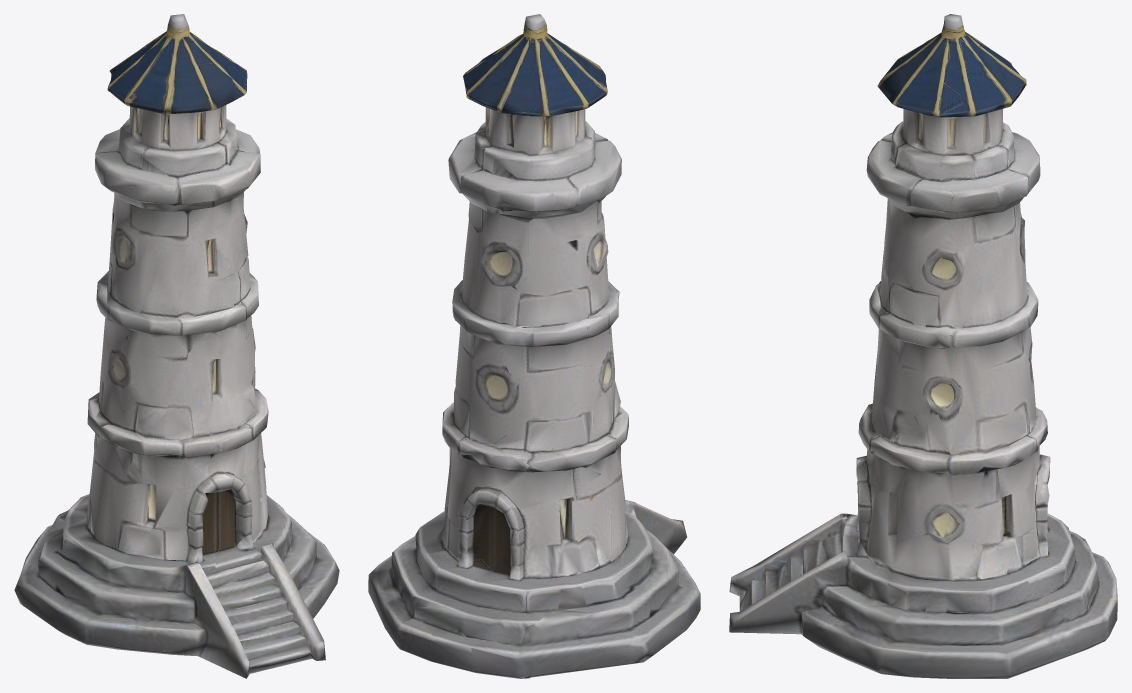
Rendered from repere-phare.glb.
3 views of the same model, side by side, from view 1: azimuth 30°, elevation 25°; view 2: azimuth 150°, elevation 25°; view 3: azimuth 270°, elevation 25° (orthographic). The views are drawn at different scales.
Parts seen in each view (by area): view 1: repere-phare; view 2: repere-phare; view 3: repere-phare.
Part boxes in pixels (x1,y1,x2,y2): repere-phare: [14, 14, 339, 678]; repere-phare: [368, 14, 700, 678]; repere-phare: [729, 14, 1117, 678].
Size of the model in its own units: 0.9382 by 1.9 by 1.12.
Materials: 1 (1 with a texture image).
